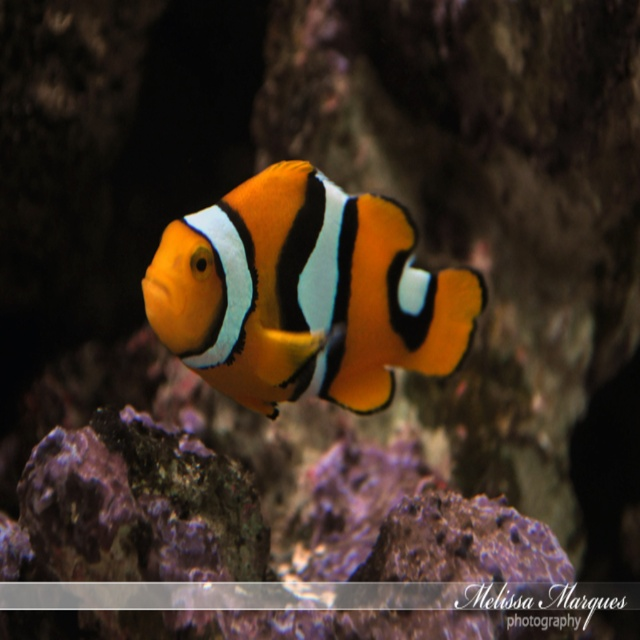Fish: (141, 160, 488, 422)
